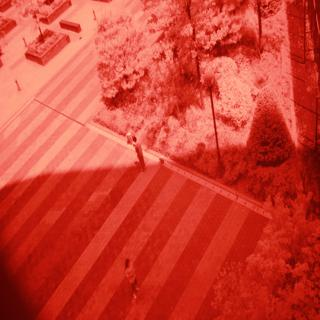person: (124, 128, 155, 174), (121, 249, 141, 308)
